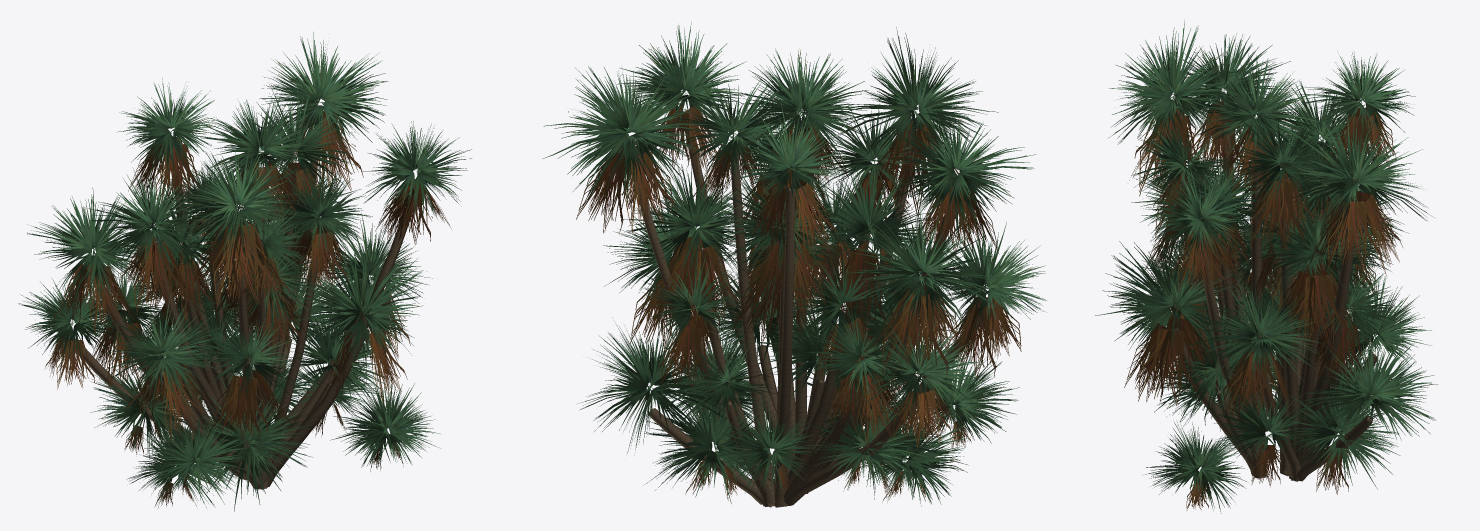
The model's file is mm6_deco_cac17.glb.
3 views of the same model, side by side, from view 1: azimuth 30°, elevation 25°; view 2: azimuth 150°, elevation 25°; view 3: azimuth 270°, elevation 25° (orthographic). The views are drawn at different scales.
Visible parts, largest first — view 1: Plant; view 2: Plant; view 3: Plant.
Boxes of the visible parts, left/top/right/bottom form: Plant: left=18, top=32, right=471, bottom=511; Plant: left=542, top=22, right=1047, bottom=507; Plant: left=1095, top=21, right=1437, bottom=513.
Size of the model in its own units: 2.71 by 2.67 by 2.12.
Materials: 2 (2 with a texture image).
